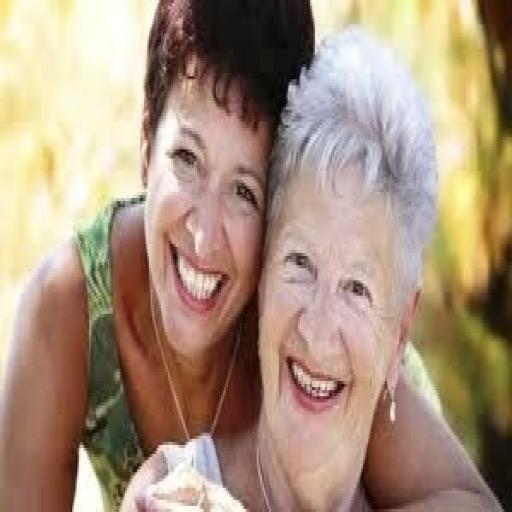hugging: (2, 3, 502, 509)
